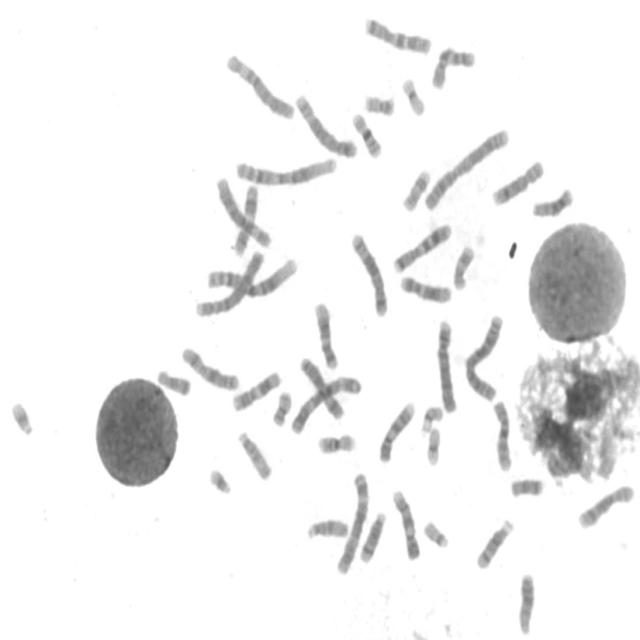A1: (204, 252, 300, 300), (231, 152, 339, 188)
A2: (421, 123, 512, 213), (461, 309, 506, 404)
A3: (287, 371, 363, 436), (333, 468, 371, 575)
B4: (192, 245, 266, 319), (433, 314, 459, 415)
B5: (292, 88, 358, 159), (348, 227, 389, 318)
C10: (427, 42, 477, 92), (490, 395, 514, 473)
C11: (228, 366, 283, 413), (230, 180, 260, 258)
C12: (311, 297, 340, 371), (396, 271, 453, 305)
C6: (222, 48, 296, 122), (212, 170, 273, 250)
C7: (390, 218, 453, 275), (361, 12, 434, 56)
C8: (574, 479, 636, 531), (489, 156, 546, 208)
C9: (375, 397, 417, 464), (389, 486, 421, 562)
D13: (514, 569, 536, 636), (531, 190, 579, 219)
D14: (473, 514, 515, 571), (356, 506, 387, 566)
D15: (234, 426, 274, 482), (302, 514, 350, 542)
E16: (348, 108, 384, 160), (314, 429, 358, 456)
E17: (399, 164, 432, 213), (449, 240, 476, 292)
E18: (154, 360, 193, 400), (508, 474, 546, 499)
F19: (398, 73, 427, 118), (423, 422, 443, 468)
F20: (360, 89, 396, 118), (269, 386, 293, 429)
G21: (7, 395, 35, 438), (205, 462, 233, 497)
G22: (420, 516, 450, 550), (418, 401, 445, 435)
X: (296, 352, 346, 422), (178, 342, 241, 393)
